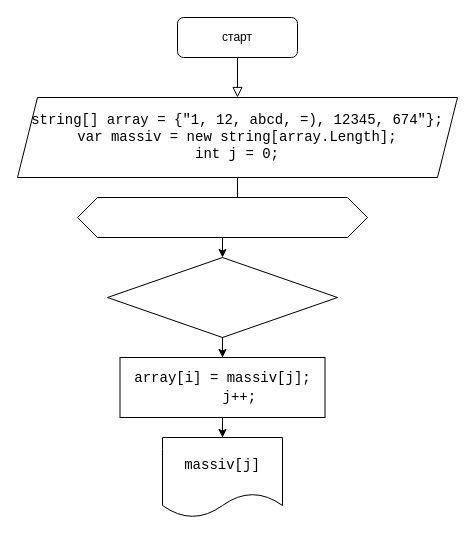
Image size: 475x535. Some labels were removed from this diagram. Each missing label, with the centre of its shape:
for (int i = 0; i < array.Length; i++): the point at 222,217
if (array[i].Length < 4): the point at 222,297
